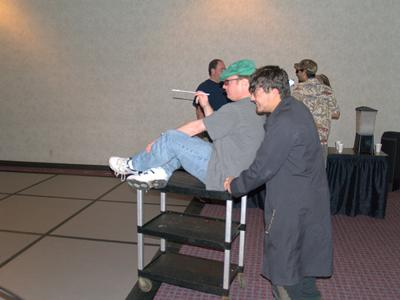person: (222, 65, 334, 300)
